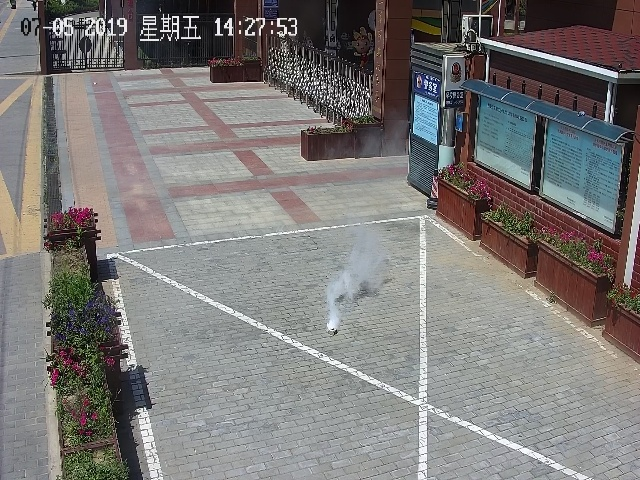smoke: (310, 227, 386, 326)
